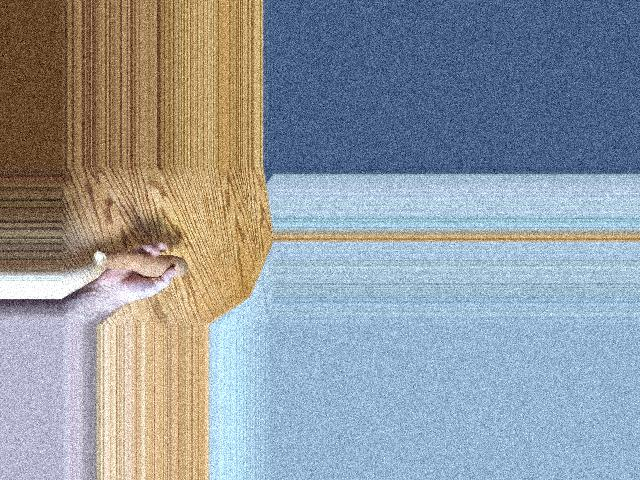sweet_potato: (101, 249, 181, 279)
